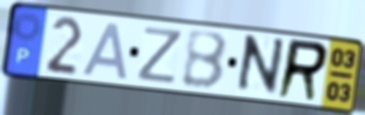2: (44, 14, 86, 78)
A: (80, 20, 131, 82)
B: (180, 30, 230, 92)
N: (232, 33, 288, 98)
R: (274, 36, 332, 104)
Z: (134, 24, 185, 86)
